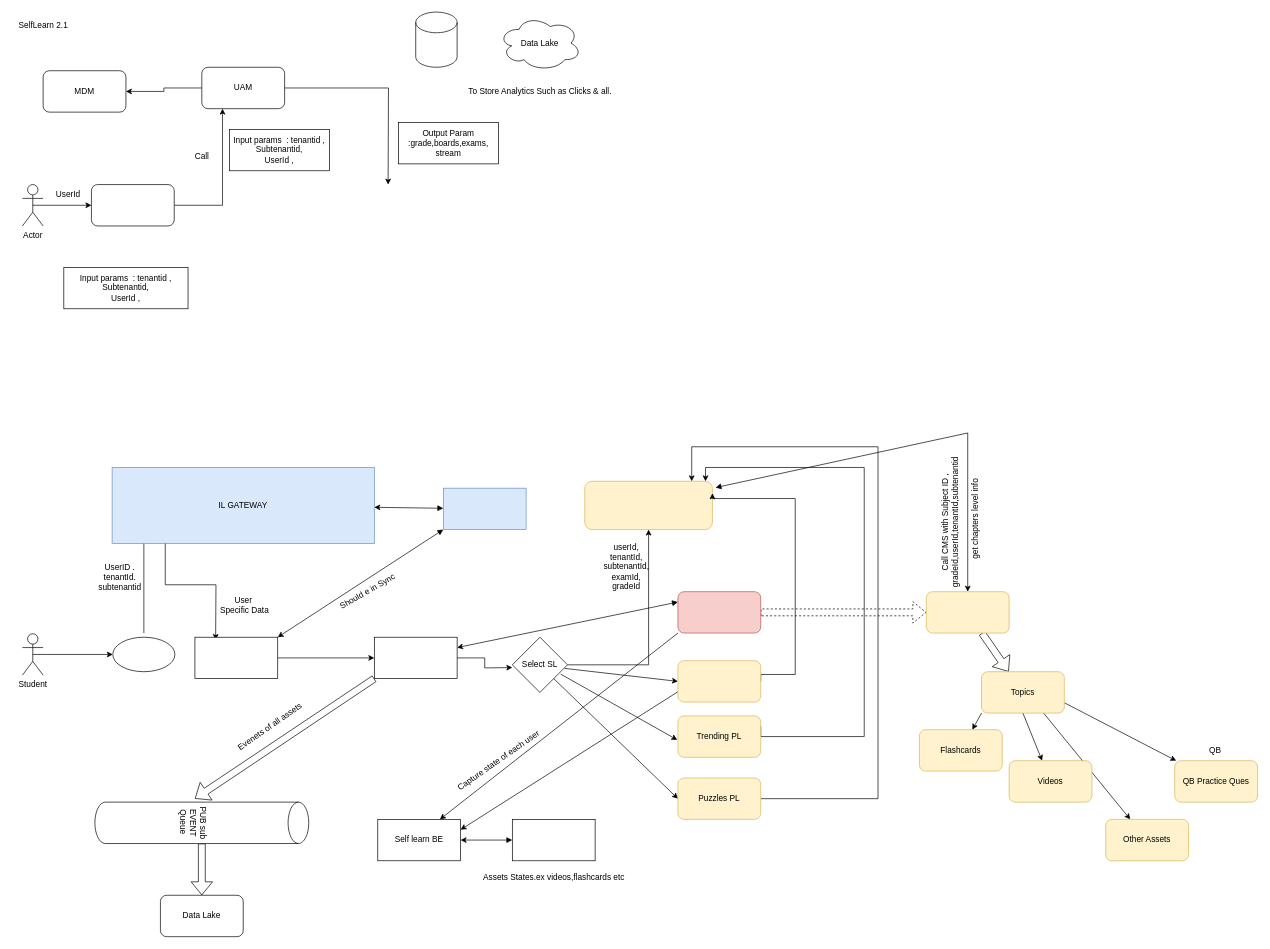
The diagram is 1270 pixels wide and 949 high, and some of its shapes have lost their labels. The shapes that lost their labels are listed below. From the top down, each one's centre as x and y in pixels, then its label:
At [436,39]: "MySQL".
At [132,205]: "Application".
At [484,508]: "Data Store Redis".
At [648,505]: "CMS".
At [719,612]: "Subject Listing".
At [967,612]: "Chapters".
At [143,654]: "Authentication".
At [236,658]: "Local/App Cache".
At [415,658]: "Self Learn 2.1".
At [719,681]: "Recommended PL".
At [553,840]: "State of Users Stored".
